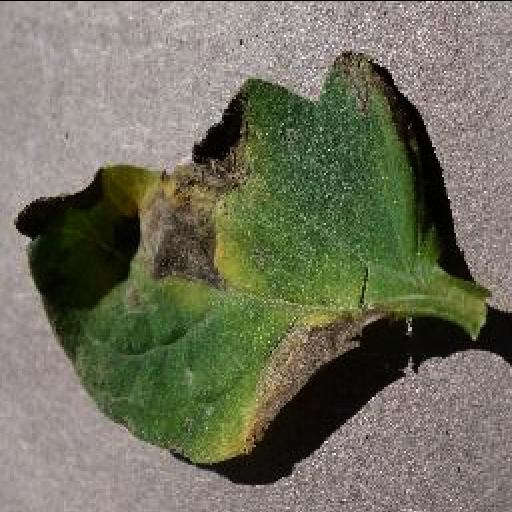Early Blight: (14, 50, 438, 468)
